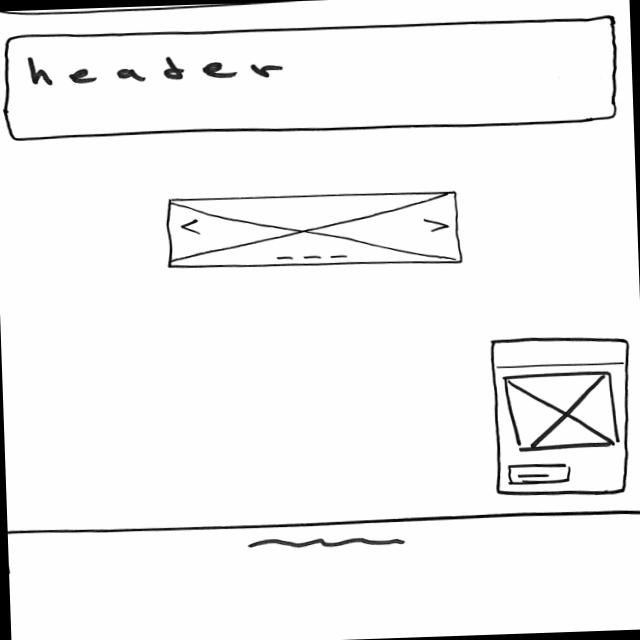container: (2, 12, 620, 143), (488, 334, 635, 499)
icon-button: (502, 459, 572, 486)
image: (162, 186, 463, 274), (504, 369, 622, 452)
label: (21, 46, 287, 88)
text: (238, 533, 412, 554)
